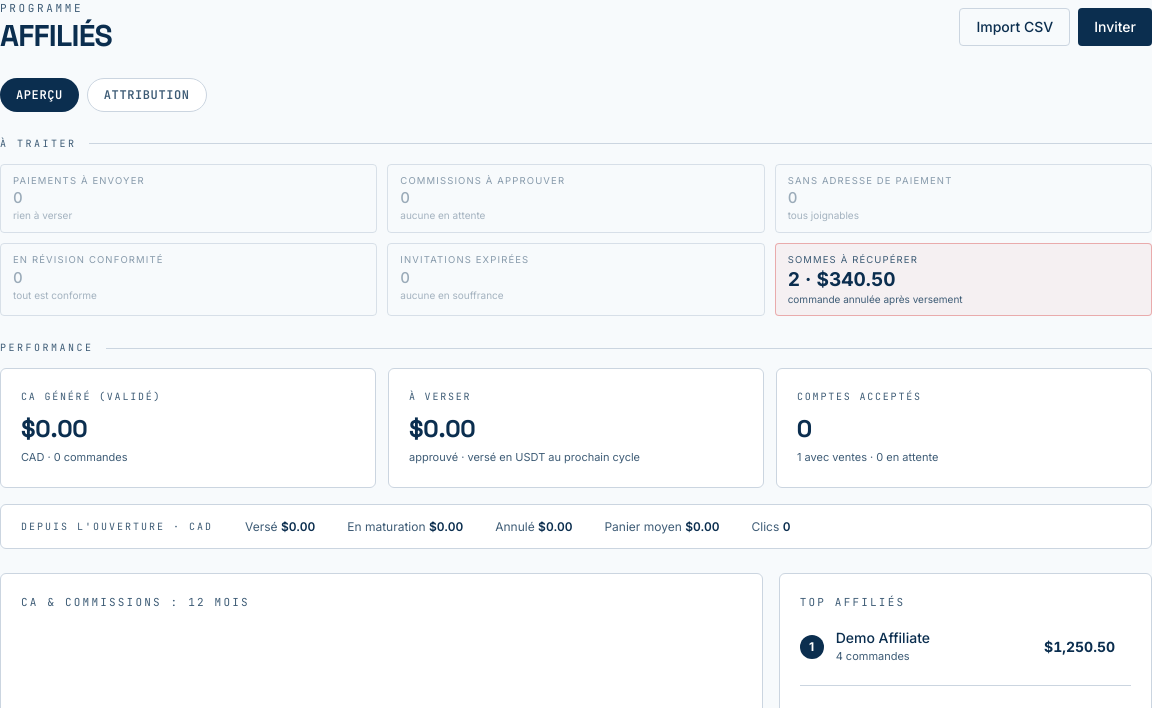
Test: AdminAffiliates — classement des top affiliés › AdminAffiliates — conciliation des commissions › les statuts se lisent en clair, pas en chaines brutes
Click the button "1 Demo Affiliate 4 commandes $1,250.50".
click(883, 637)  # box [792,620,1123,673]
(page scrolled)
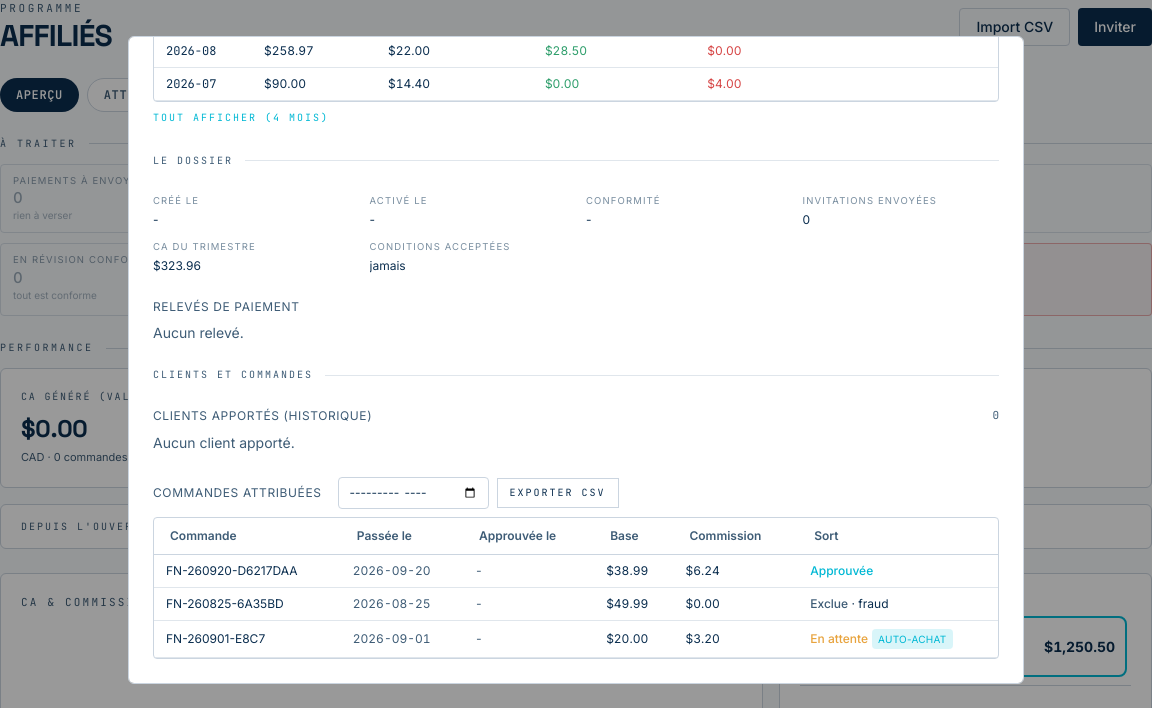
Now the text "Approuvée" is shown, box [810,563,873,578]
Now the text "FN-260825-6A35BD" shows "Exclue", box [810,596,848,611]
Now the text "FN-260901-E8C7" shows "En attente", box [810,631,868,646]
